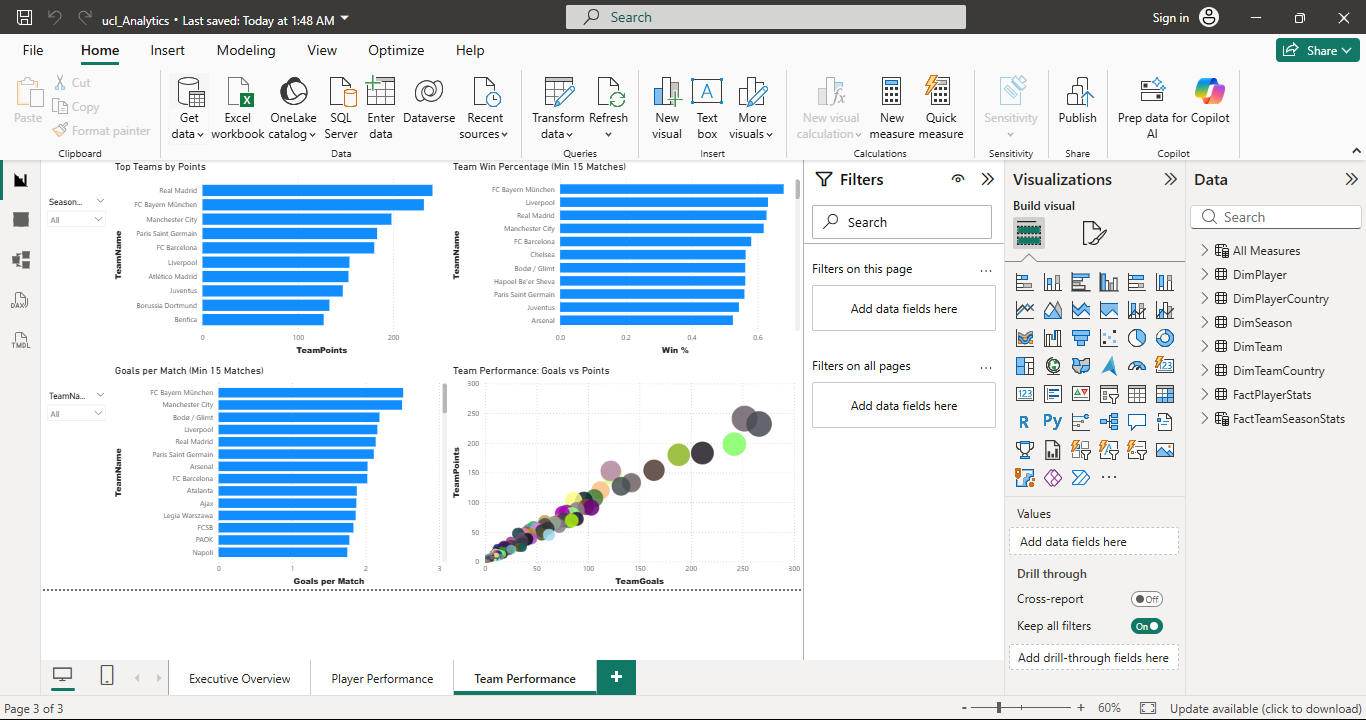

The dashboard page shown, as its layout file describes it:
{"tool":"powerbi","page":{"name":"Team Performance","canvas":[1280,720],"ordinal":2},"visuals":[{"type":"clusteredBarChart","title":"Top Teams by Points","fields":{"Y":["All Measures.TeamPoints"],"Category":["DimTeam.TeamName"]},"box":[119.3,0,567.8,332.6],"z":0},{"type":"clusteredBarChart","title":"Team Win Percentage (Min 15 Matches)","fields":{"Category":["DimTeam.TeamName"],"Y":["All Measures.Win %"]},"box":[687,0,593,332.6],"z":1000},{"type":"clusteredBarChart","title":"Goals per Match (Min 15 Matches)","fields":{"Category":["DimTeam.TeamName"],"Y":["All Measures.Goals per Match"]},"box":[119.3,342.7,567.8,378],"z":2000},{"type":"scatterChart","title":"Team Performance: Goals vs Points","fields":{"X":["All Measures.TeamGoals"],"Y":["All Measures.TeamPoints"],"Size":["All Measures.TeamWins"],"Series":["DimTeam.TeamName"]},"box":[687,342.7,593,378],"z":3000},{"type":"slicer","fields":{"Values":["DimSeason.SeasonName"]},"box":[0,57.1,119.3,325.9],"z":3001},{"type":"slicer","fields":{"Values":["DimTeam.TeamName"]},"box":[0,383,119.3,336],"z":3002}]}

Visuals, with their boxes on the page's 1280x720 design canvas (x1, y1, x2, y2). These are canvas units, not pixel positions in the 1366x720 screenshot, which may show the page scaled, cropped or inside an application window:
"Top Teams by Points" clusteredBarChart: [119, 0, 687, 333]
"Team Win Percentage (Min 15 Matches)" clusteredBarChart: [687, 0, 1280, 333]
"Goals per Match (Min 15 Matches)" clusteredBarChart: [119, 343, 687, 721]
"Team Performance: Goals vs Points" scatterChart: [687, 343, 1280, 721]
slicer - DimSeason.SeasonName: [0, 57, 119, 383]
slicer - DimTeam.TeamName: [0, 383, 119, 719]
